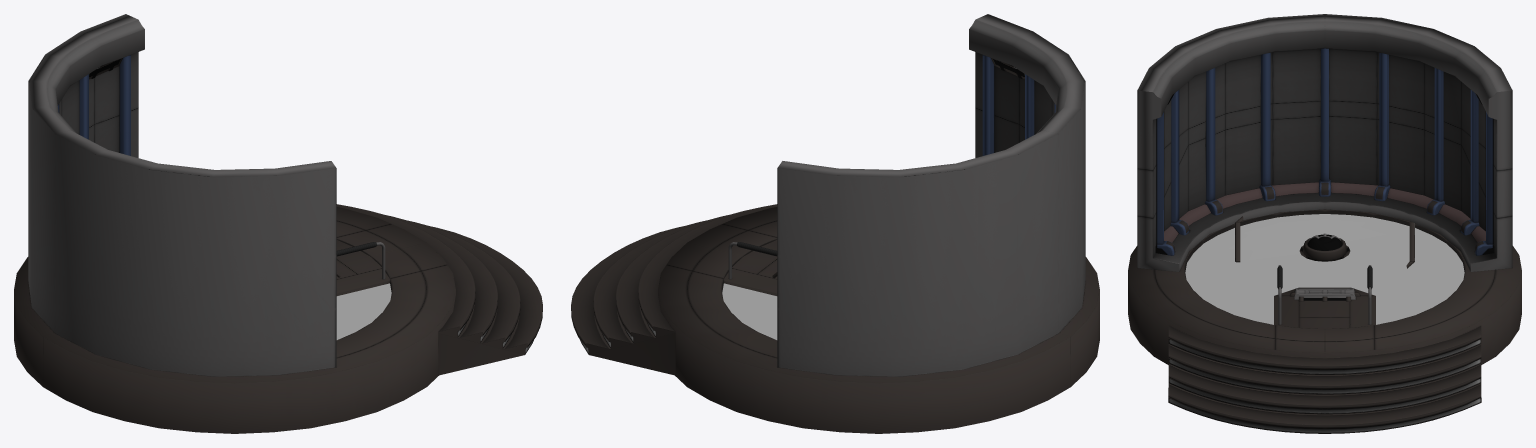
Rendered from Prefabricator.fbx.
The picture shows the model from 3 angles, left to right: view 1: azimuth 30°, elevation 25°; view 2: azimuth 150°, elevation 25°; view 3: azimuth 270°, elevation 25°; orthographic projection. The views are drawn at different scales.
Visible parts, largest first — view 1: Prefabricator, GlassFloor; view 2: Prefabricator, GlassFloor; view 3: Prefabricator, GlassFloor.
Part boxes in pixels (x1=…): Prefabricator: x1=14, y1=14, x2=542, y2=433; GlassFloor: x1=336, y1=283, x2=391, y2=339; Prefabricator: x1=571, y1=14, x2=1099, y2=433; GlassFloor: x1=722, y1=283, x2=777, y2=339; Prefabricator: x1=1128, y1=14, x2=1521, y2=433; GlassFloor: x1=1185, y1=214, x2=1464, y2=324.
Bounding box in the file's own units: 7.18 × 3.65 × 5.85.
